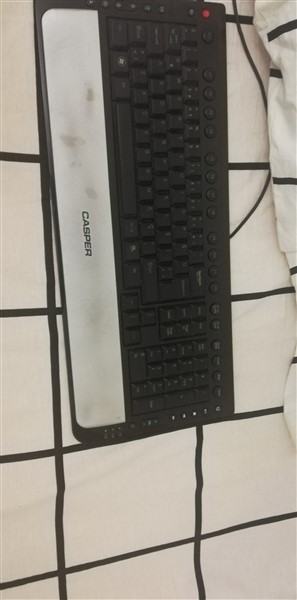klavye: (29, 1, 238, 452)
